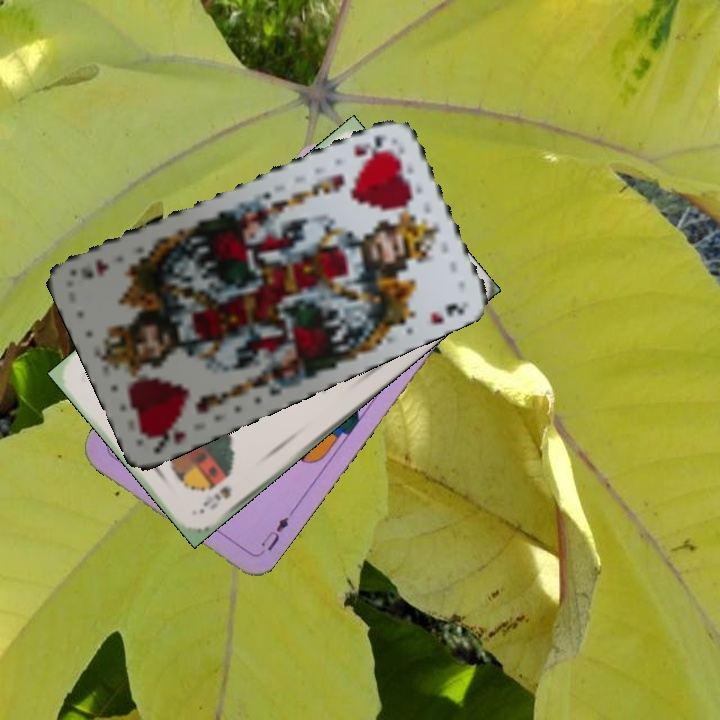EU: (253, 512, 291, 559)
HK: (143, 417, 188, 456), (350, 131, 390, 161)
SO: (199, 481, 235, 510)
